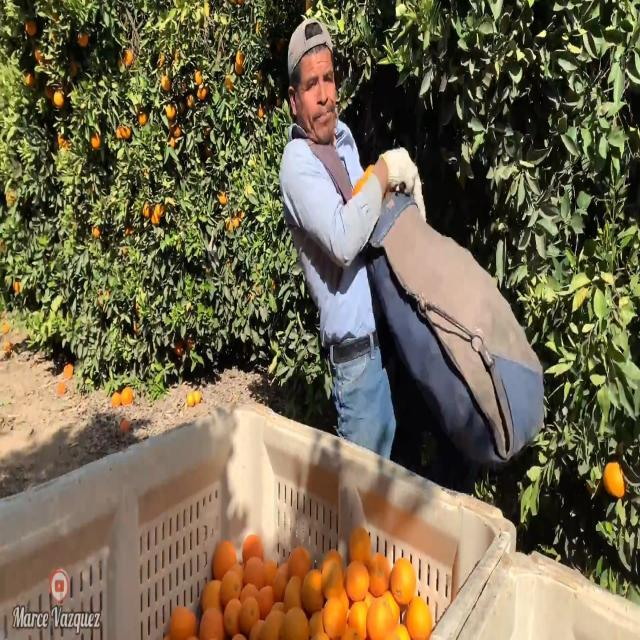Jeruk Sudah Matang: (163, 101, 179, 122), (134, 105, 147, 128), (25, 14, 36, 36), (90, 130, 100, 152), (52, 86, 62, 105)
